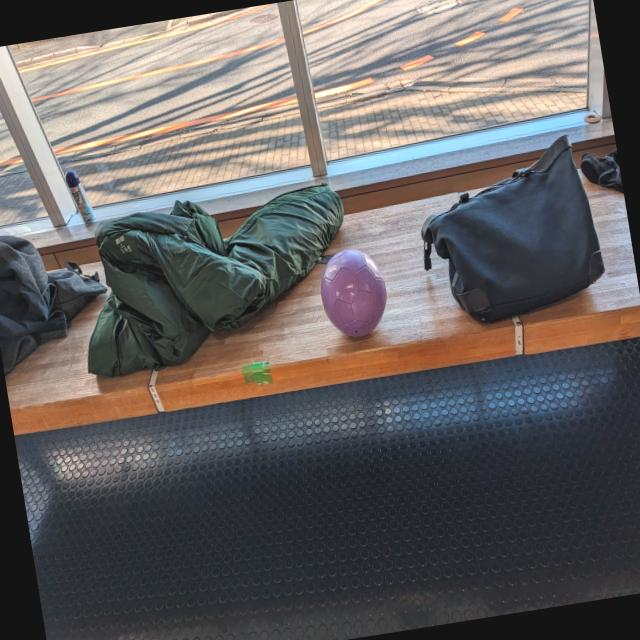purple_ball: (312, 240, 394, 342)
